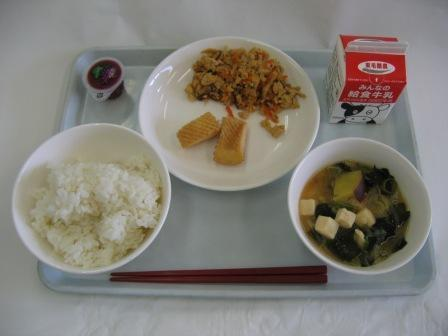Cup desserts: (77, 53, 138, 112)
Milk: (308, 24, 414, 141)
Rice: (11, 128, 172, 276)
Soups: (288, 142, 432, 278)
cereal based cooked food: (182, 42, 292, 115)
cookies: (167, 111, 257, 174)
